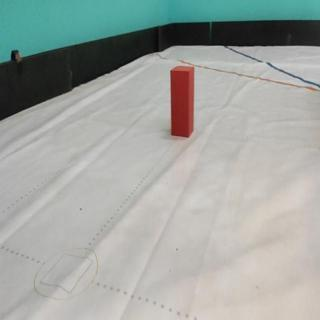redbox: (169, 65, 195, 138)
